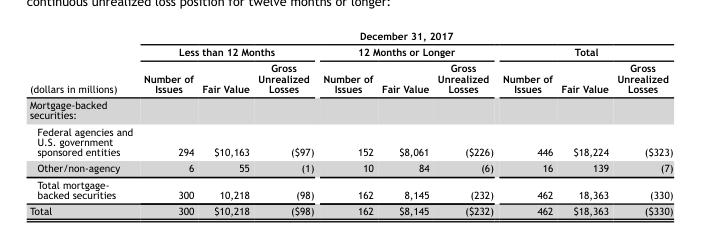table: (28, 29, 672, 216)
table column: (28, 29, 137, 216), (432, 29, 497, 216), (253, 29, 317, 216), (137, 29, 197, 216), (612, 29, 672, 216), (317, 29, 376, 216), (497, 29, 556, 216), (197, 29, 253, 216), (376, 29, 432, 216), (556, 29, 612, 216)
table column header: (28, 29, 672, 96)
table projected row header: (28, 96, 672, 122)
table row: (28, 59, 672, 96), (28, 122, 672, 159), (28, 175, 672, 202), (28, 96, 672, 122), (28, 43, 672, 59), (28, 159, 672, 175), (28, 29, 672, 43), (28, 202, 672, 216)
table spanning cell: (137, 29, 672, 43), (28, 29, 137, 96), (137, 43, 317, 59), (317, 43, 497, 59), (497, 43, 672, 59)
